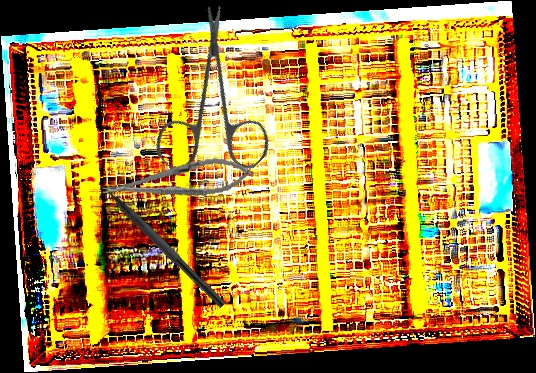Chopper: (89, 167, 236, 309)
Iris Scissors: (108, 0, 317, 210)
Needle Holder: (100, 152, 255, 209)
